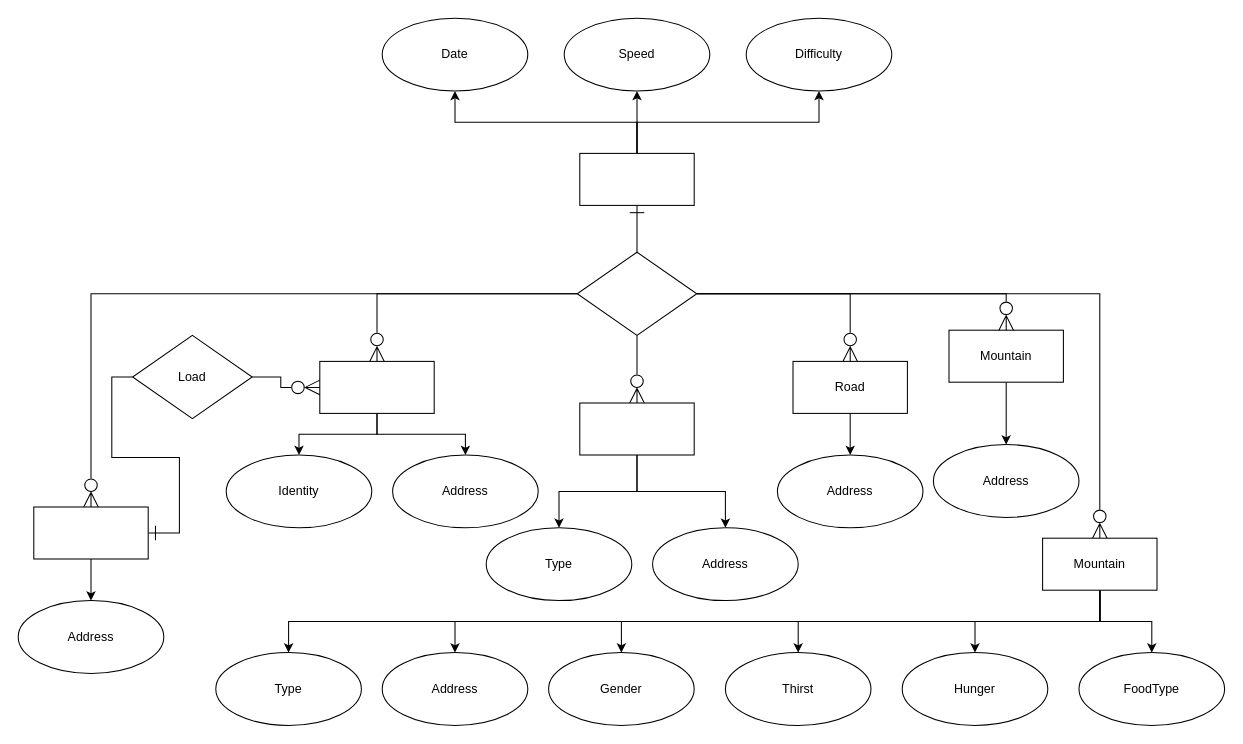
Image size: 1243x744. Some labels were removed from this diagram. Each missing label, with the box of its shape:
Consist: (576, 251, 697, 335)
Human: (319, 360, 434, 413)
Jeep: (33, 506, 148, 559)
Plant: (579, 402, 694, 455)
Safari: (579, 152, 694, 205)
